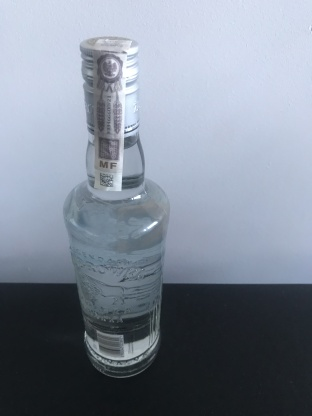nakretka: (77, 33, 142, 140)
